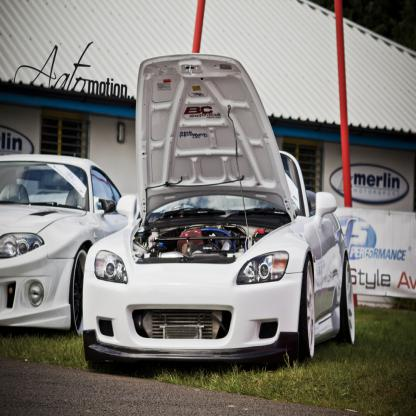Car: (82, 53, 354, 369), (0, 154, 122, 336)
